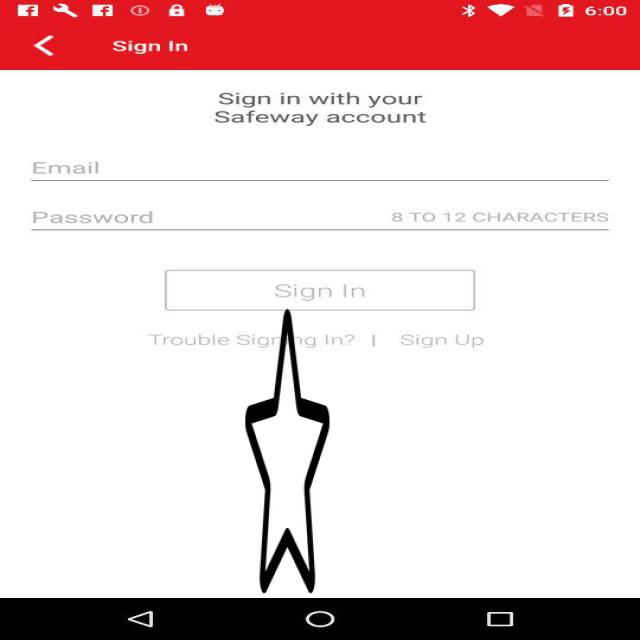forced continuity: (246, 303, 330, 599)
